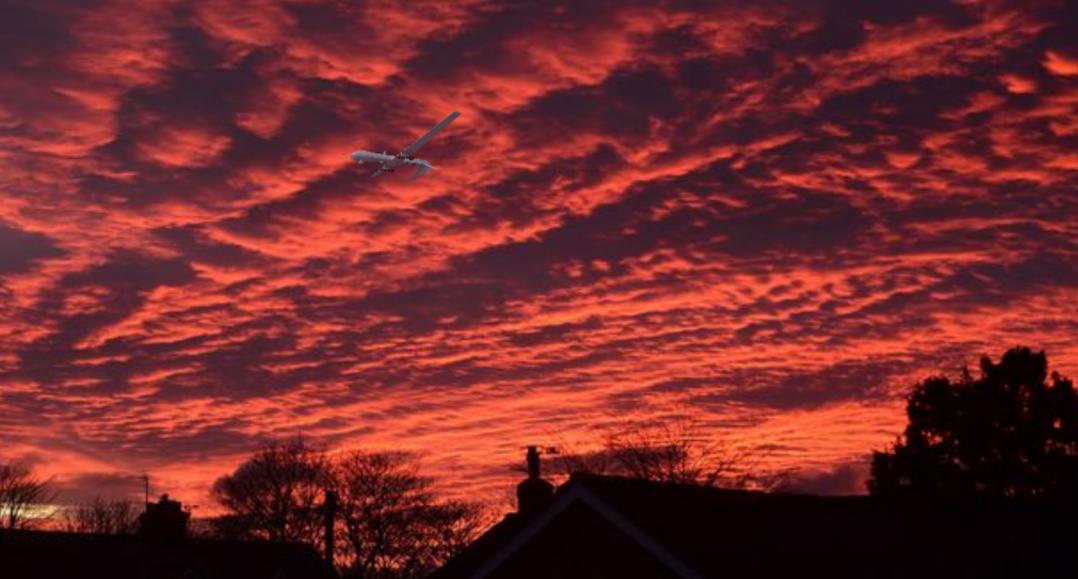military drone: (349, 110, 460, 179)
